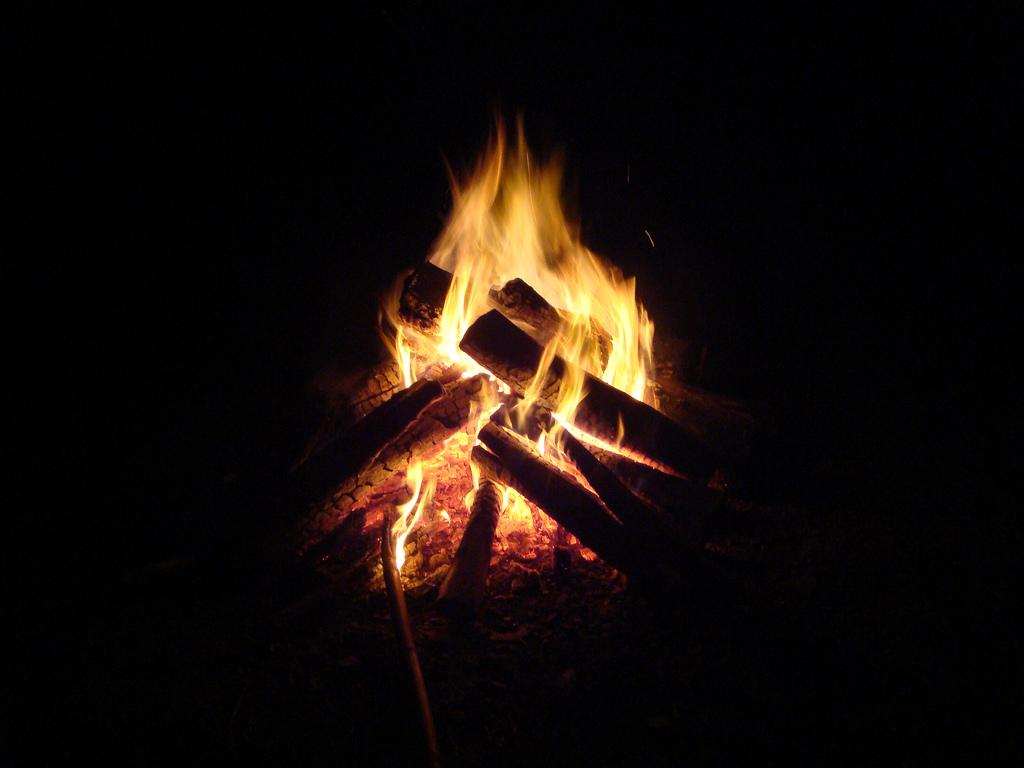fire: (462, 200, 560, 278), (576, 264, 630, 326)
